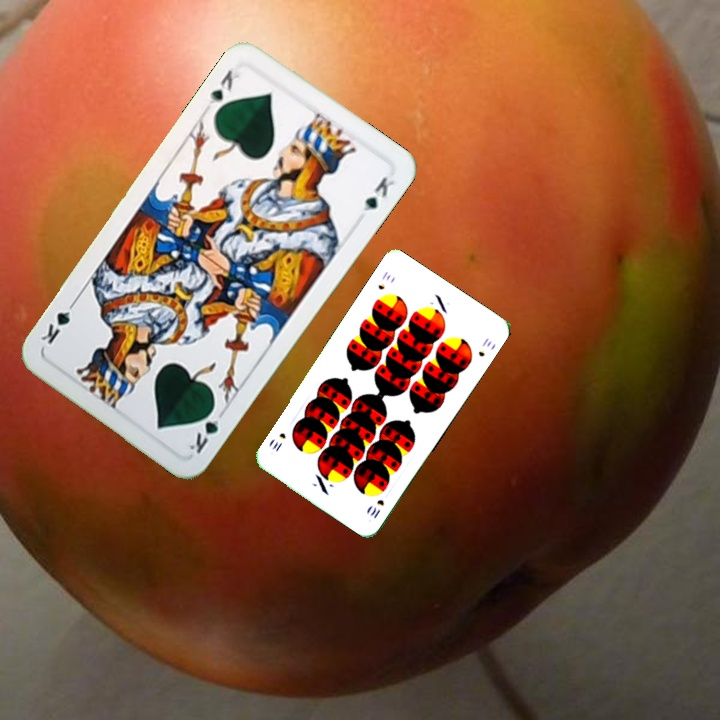GK: (183, 401, 228, 457), (205, 65, 243, 109)
S10: (366, 495, 387, 521), (374, 267, 394, 292)
